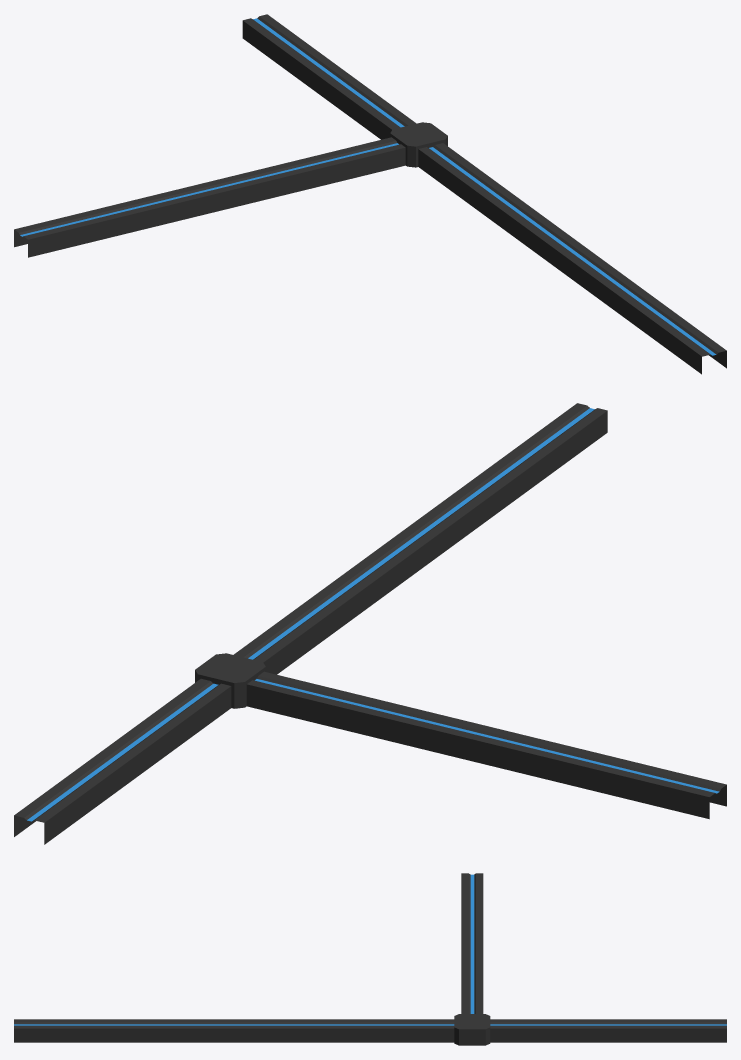
The picture shows the model from 3 angles, top to bottom: view 1: azimuth 30°, elevation 25°; view 2: azimuth 150°, elevation 25°; view 3: azimuth 270°, elevation 25°; orthographic projection. The views are drawn at different scales.
Visible parts, largest first — view 1: 1110; view 2: 1110; view 3: 1110.
Boxes of the visible parts, left/top/right/bottom form: 1110: left=14, top=14, right=726, bottom=374; 1110: left=14, top=403, right=726, bottom=844; 1110: left=14, top=873, right=726, bottom=1045.
Size of the model in its own units: 1.05 by 0.0503 by 2.
